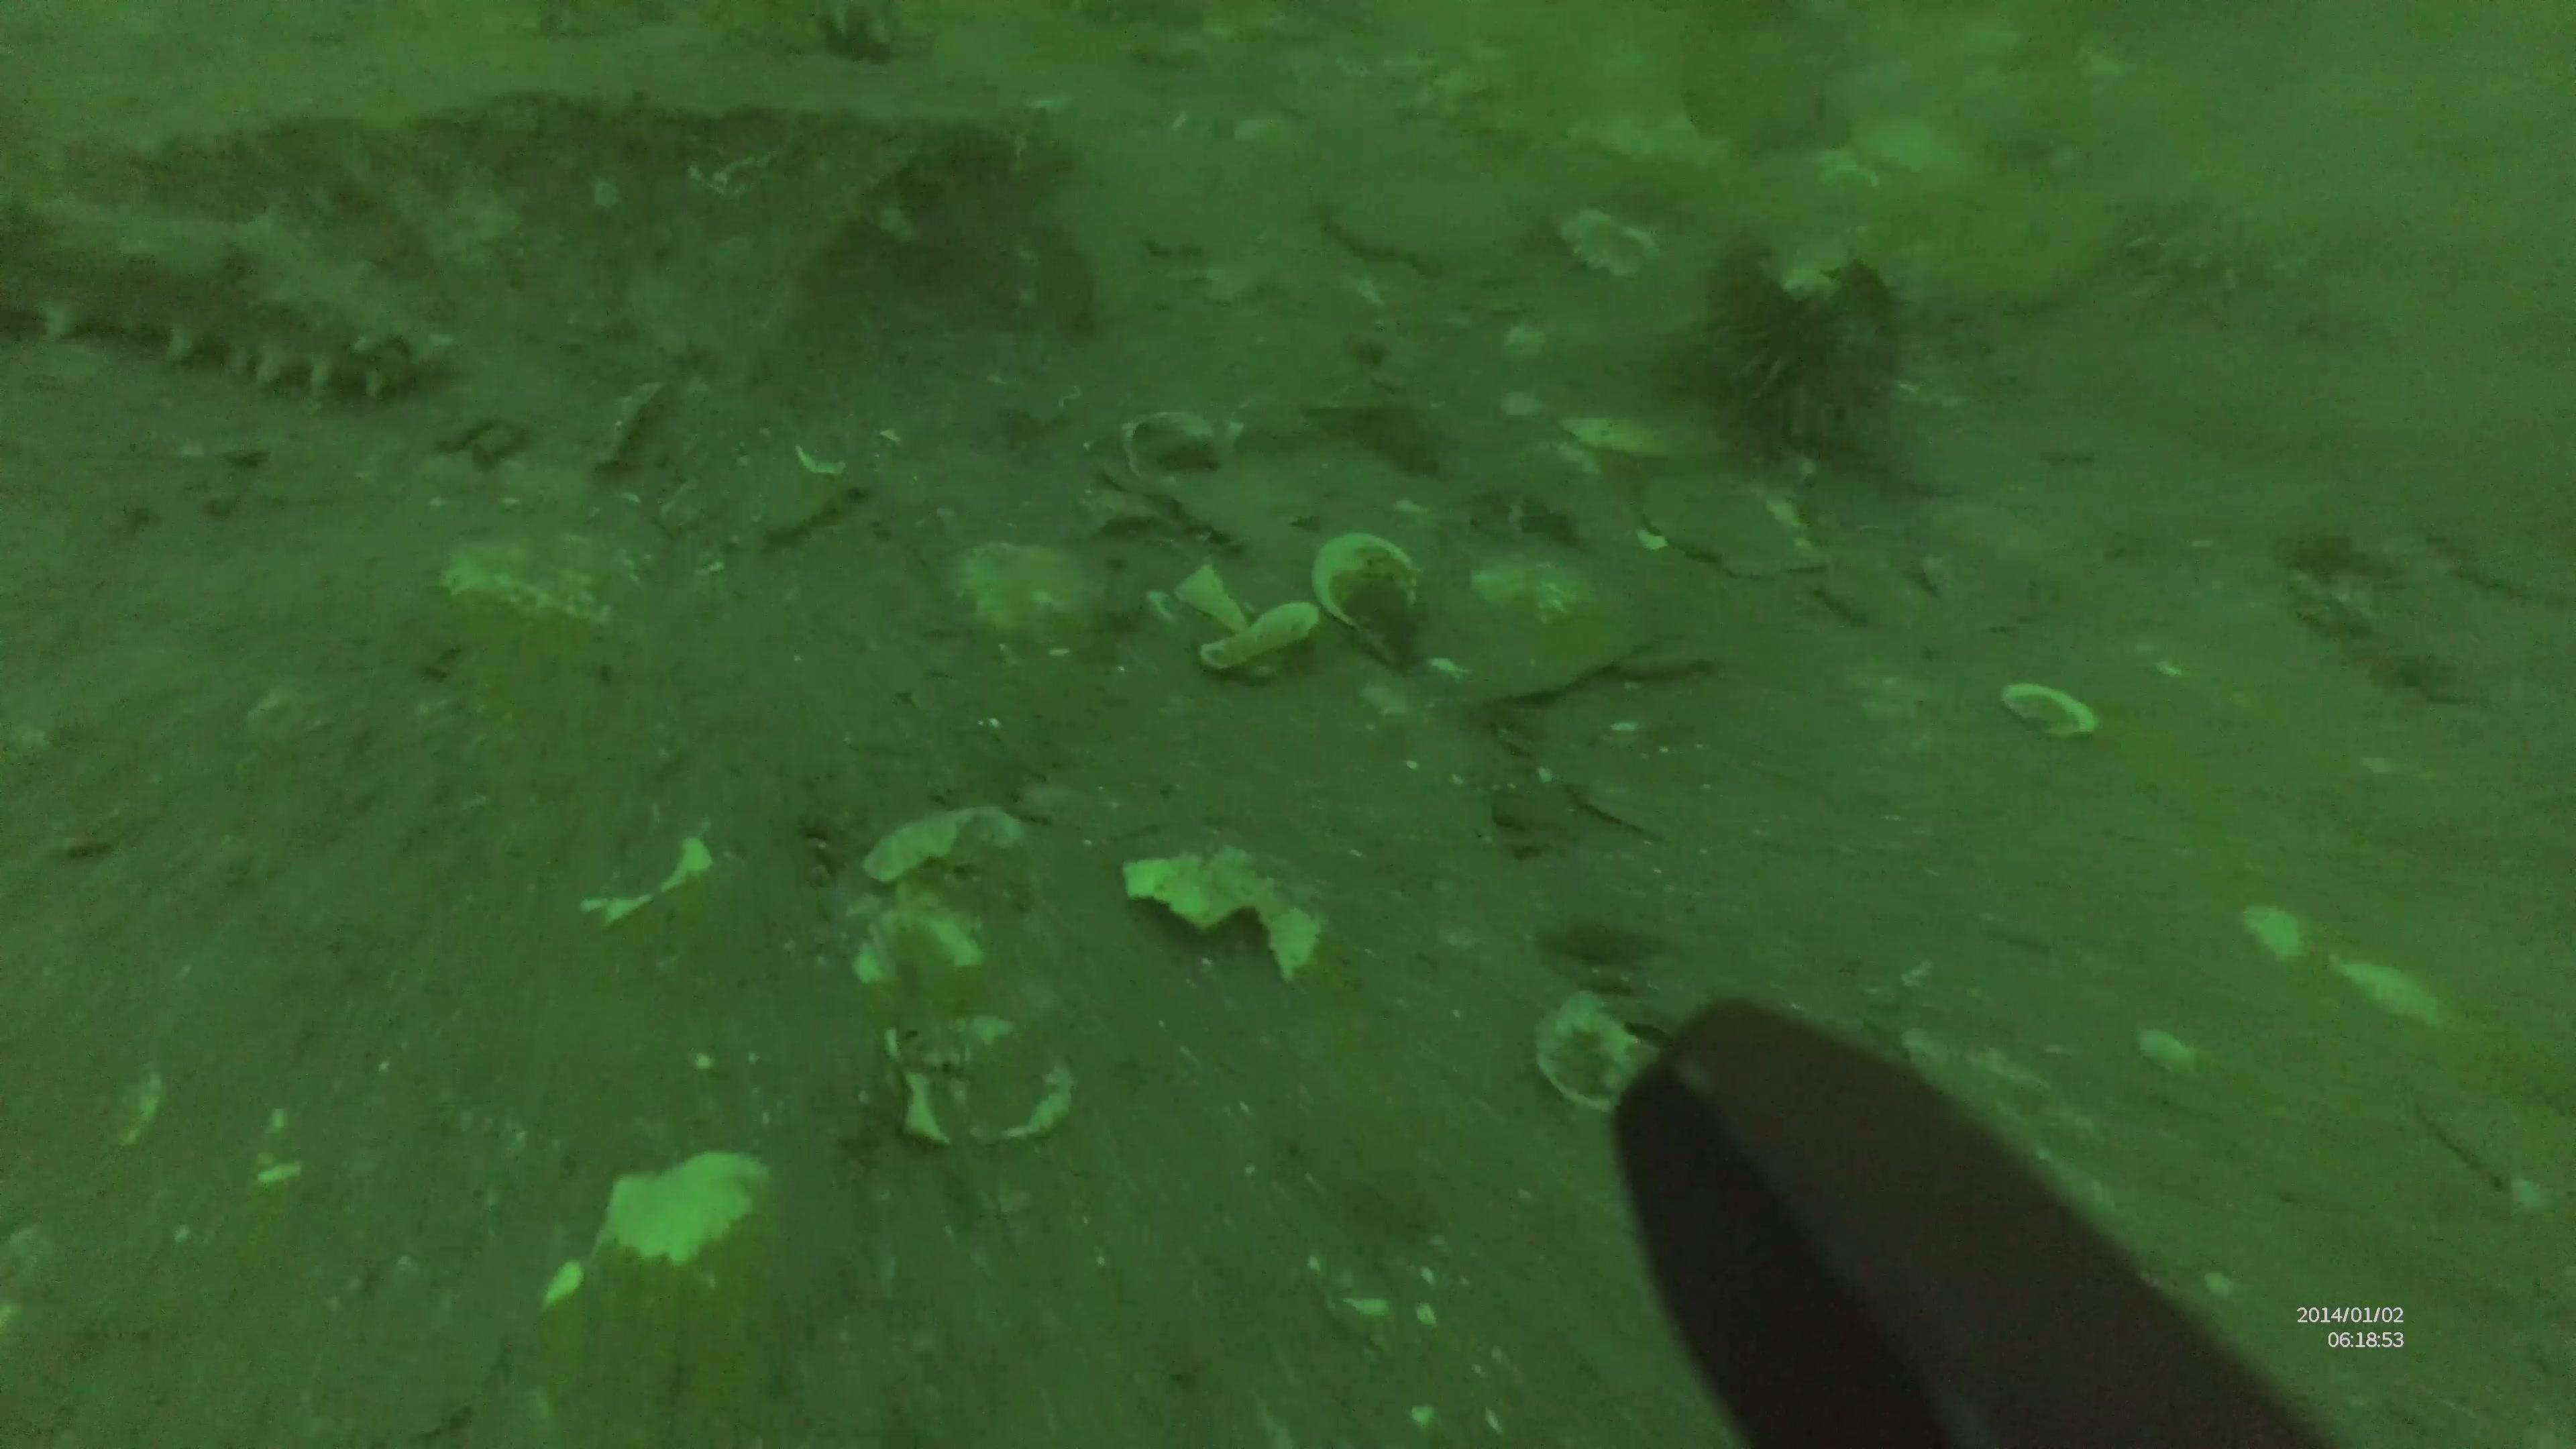holothurian: (0, 198, 453, 395)
